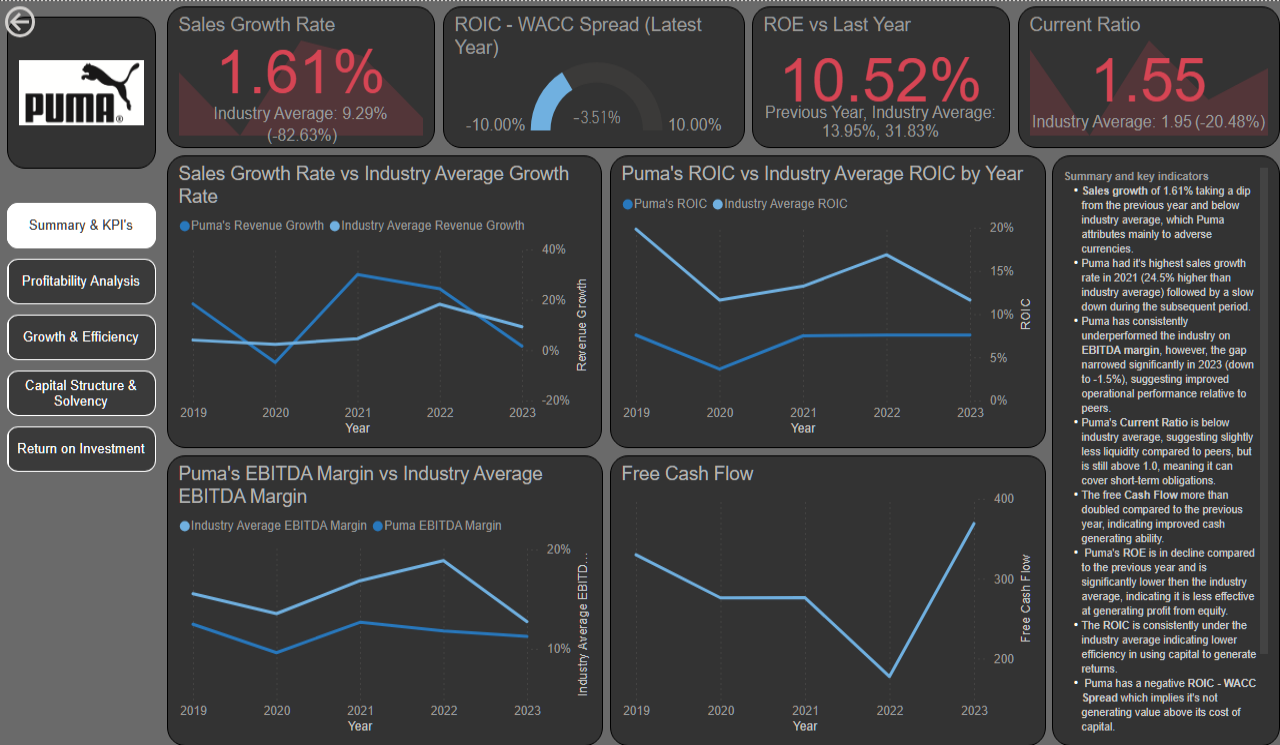

The dashboard page shown, as its layout file describes it:
{"tool":"powerbi","page":{"name":"Summary","canvas":[1280,720],"ordinal":0},"visuals":[{"type":"lineChart","title":"Sales Growth Rate vs Industry Average Growth Rate","fields":{"Category":["Summary and KPI's (3).Year"],"Y2":["Sum(Summary and KPI's (3).Puma_Rev_Growth)","Sum(Summary and KPI's (3).Industry_Avg_Rev_Growth)"]},"box":[167.3,148.8,435,283],"z":0},{"type":"pageNavigator","box":[6.9,195.1,148.7,259.6],"z":1000},{"type":"image","box":[6.9,14.6,148.7,147.9],"z":2000},{"type":"gauge","title":"ROIC - WACC Spread (Latest Year)","fields":{"Y":["Summary.Puma_Latest_Spread"]},"box":[443.1,5.3,301.5,137.1],"z":3000},{"type":"kpi","title":"ROE vs Last Year","fields":{"Goal":["Summary.Previous_ROE","Sum(Summary.Industry_Avg_ROE)"],"Indicator":["Summary.Latest_ROE"],"TrendLine":["Summary.Year"]},"box":[752.2,5.3,258,136.9],"z":4000},{"type":"lineChart","title":"Puma''s ROIC vs Industry Average ROIC by Year","fields":{"Category":["Summary.Year"],"Y2":["Sum(Summary.Puma_ROIC)","Sum(Summary.Industry_Avg_ROIC)"]},"box":[610.2,148.8,435.7,283],"z":5000},{"type":"actionButton","box":[0,0,100,40],"z":6000},{"type":"lineChart","title":"Puma''s EBITDA Margin vs Industry Average EBITDA Margin","fields":{"Y2":["Sum(Summary.Industry_Avg_EBITDA_Margin)","Sum(Summary.Puma_EBITDA_Margin)"],"Category":["Summary.Year"]},"box":[167.3,439,435.7,281],"z":7000},{"type":"kpi","title":"Current Ratio ","fields":{"Indicator":["Sum(Summary.Puma_Current_ Ratio)"],"TrendLine":["Summary.Year"],"Goal":["Sum(Summary.Industry_Avg_Current_Ratio)"]},"box":[1018,5.3,262,137.1],"z":8000},{"type":"kpi","title":"Sales Growth Rate","fields":{"Indicator":["Sum(Summary.Puma_Rev_Growth)"],"TrendLine":["Summary.Year"],"Goal":["Sum(Summary.Industry_Avg_Rev_Growth)"]},"box":[167,5.3,268.1,137.1],"z":9000},{"type":"textbox","box":[1051.8,148.5,228.2,571.8],"z":10000},{"type":"lineChart","title":"Free Cash Flow","fields":{"Category":["Summary.Year"],"Y2":["Sum(Summary.Puma_Free_cash_flow)"]},"box":[610.2,439,435.7,281],"z":11000}]}

Visuals, with their boxes on the page's 1280x720 design canvas (x1, y1, x2, y2). These are canvas units, not pixel positions in the 1280x745 screenshot, which may show the page scaled, cropped or inside an application window:
"Sales Growth Rate vs Industry Average Growth Rate" lineChart: crop(167, 149, 602, 432)
pageNavigator: crop(7, 195, 156, 455)
image: crop(7, 15, 156, 162)
"ROIC - WACC Spread (Latest Year)" gauge: crop(443, 5, 745, 142)
"ROE vs Last Year" kpi: crop(752, 5, 1010, 142)
"Puma''s ROIC vs Industry Average ROIC by Year" lineChart: crop(610, 149, 1046, 432)
actionButton: crop(0, 0, 100, 40)
"Puma''s EBITDA Margin vs Industry Average EBITDA Margin" lineChart: crop(167, 439, 603, 720)
"Current Ratio " kpi: crop(1018, 5, 1280, 142)
"Sales Growth Rate" kpi: crop(167, 5, 435, 142)
textbox: crop(1052, 148, 1280, 720)
"Free Cash Flow" lineChart: crop(610, 439, 1046, 720)
